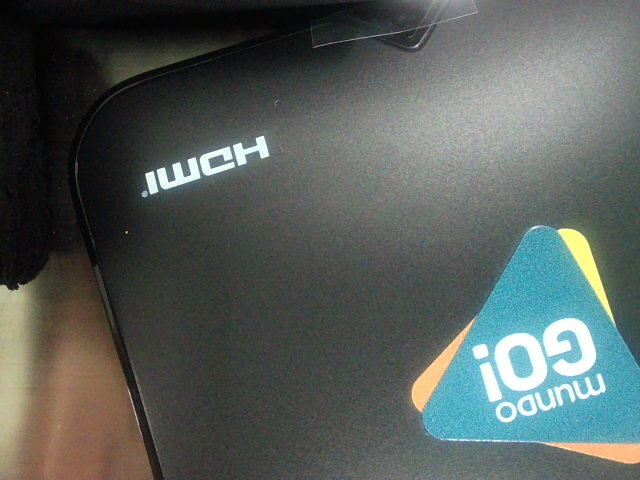AP_IPGMundoGO: (382, 213, 639, 468)
